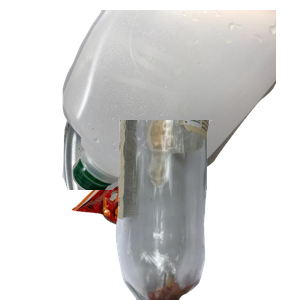glass: (113, 120, 300, 300)
metal: (60, 44, 300, 224)
plastic: (60, 10, 300, 190)
trash: (69, 153, 239, 300)
